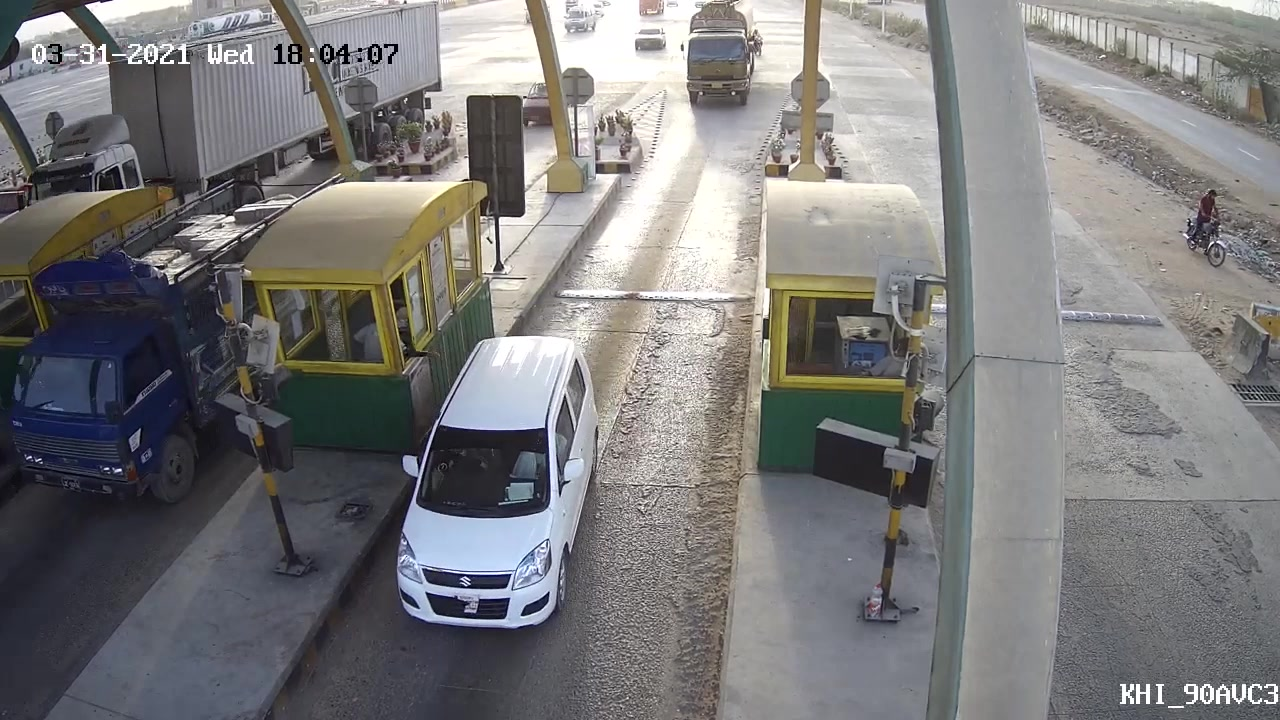F1: (384, 325, 612, 636)
